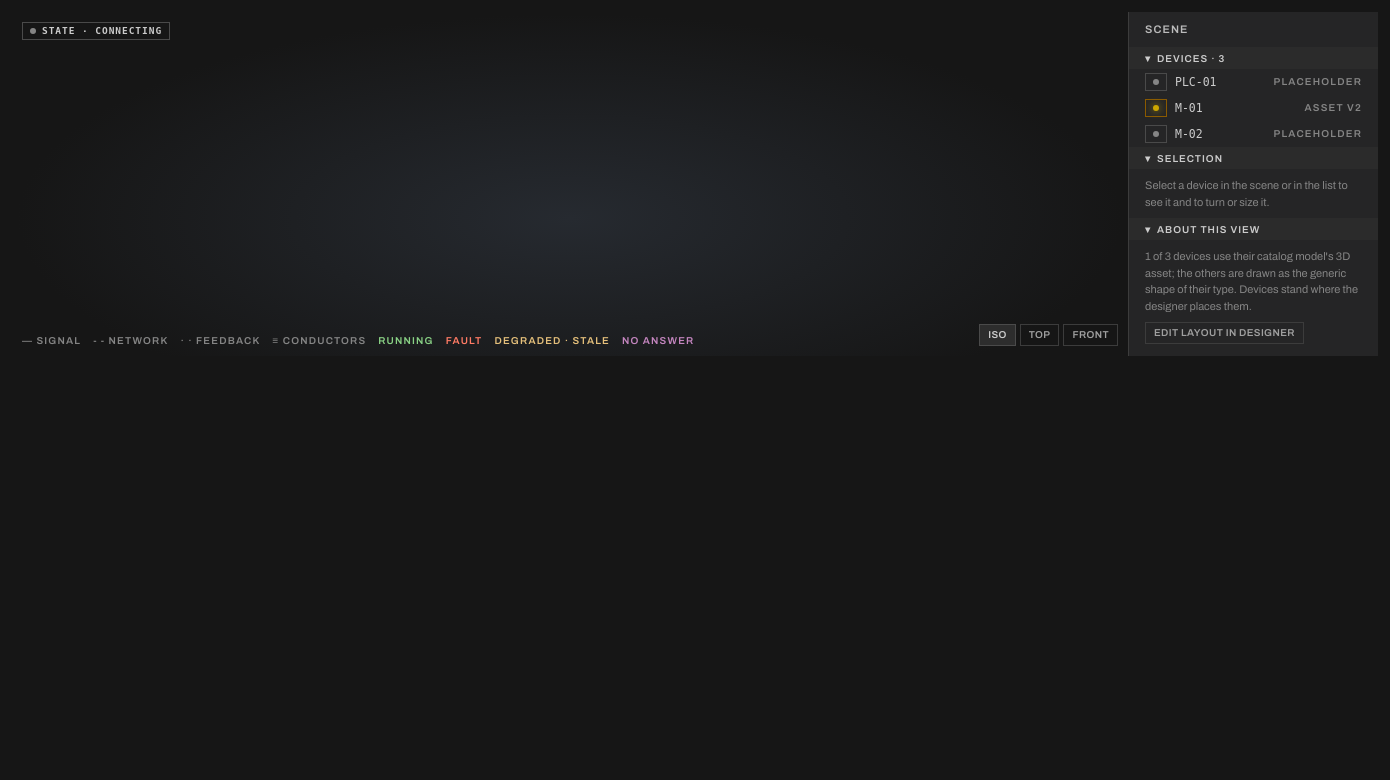
it: SceneView › does not offer a size beyond the limits
Click the button "M-02 placeholder" at (1254, 134), box [1129,121,1378,147]
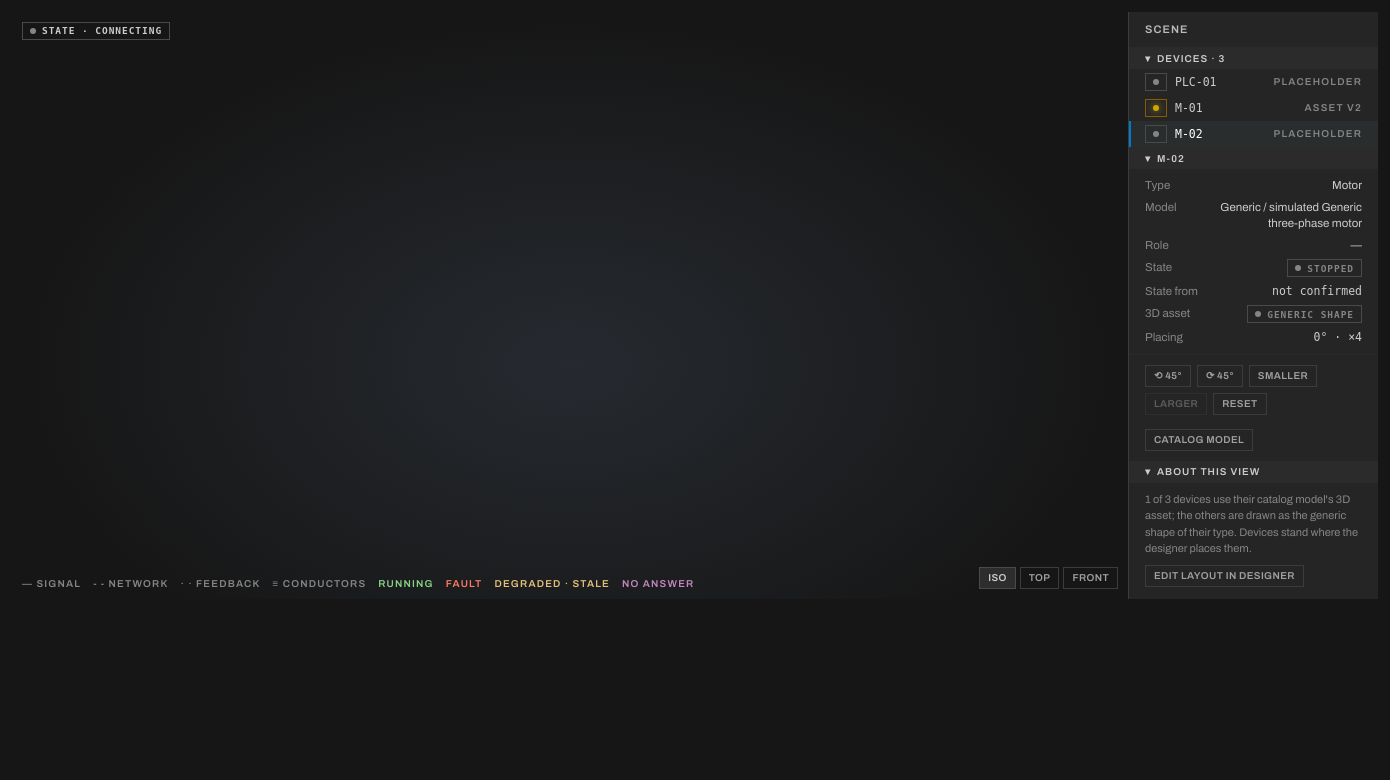
expect the button "Larger" is disabled: met, box [1145,393,1207,415]
expect the button "Smaller" is enabled: met, box [1249,365,1317,387]
